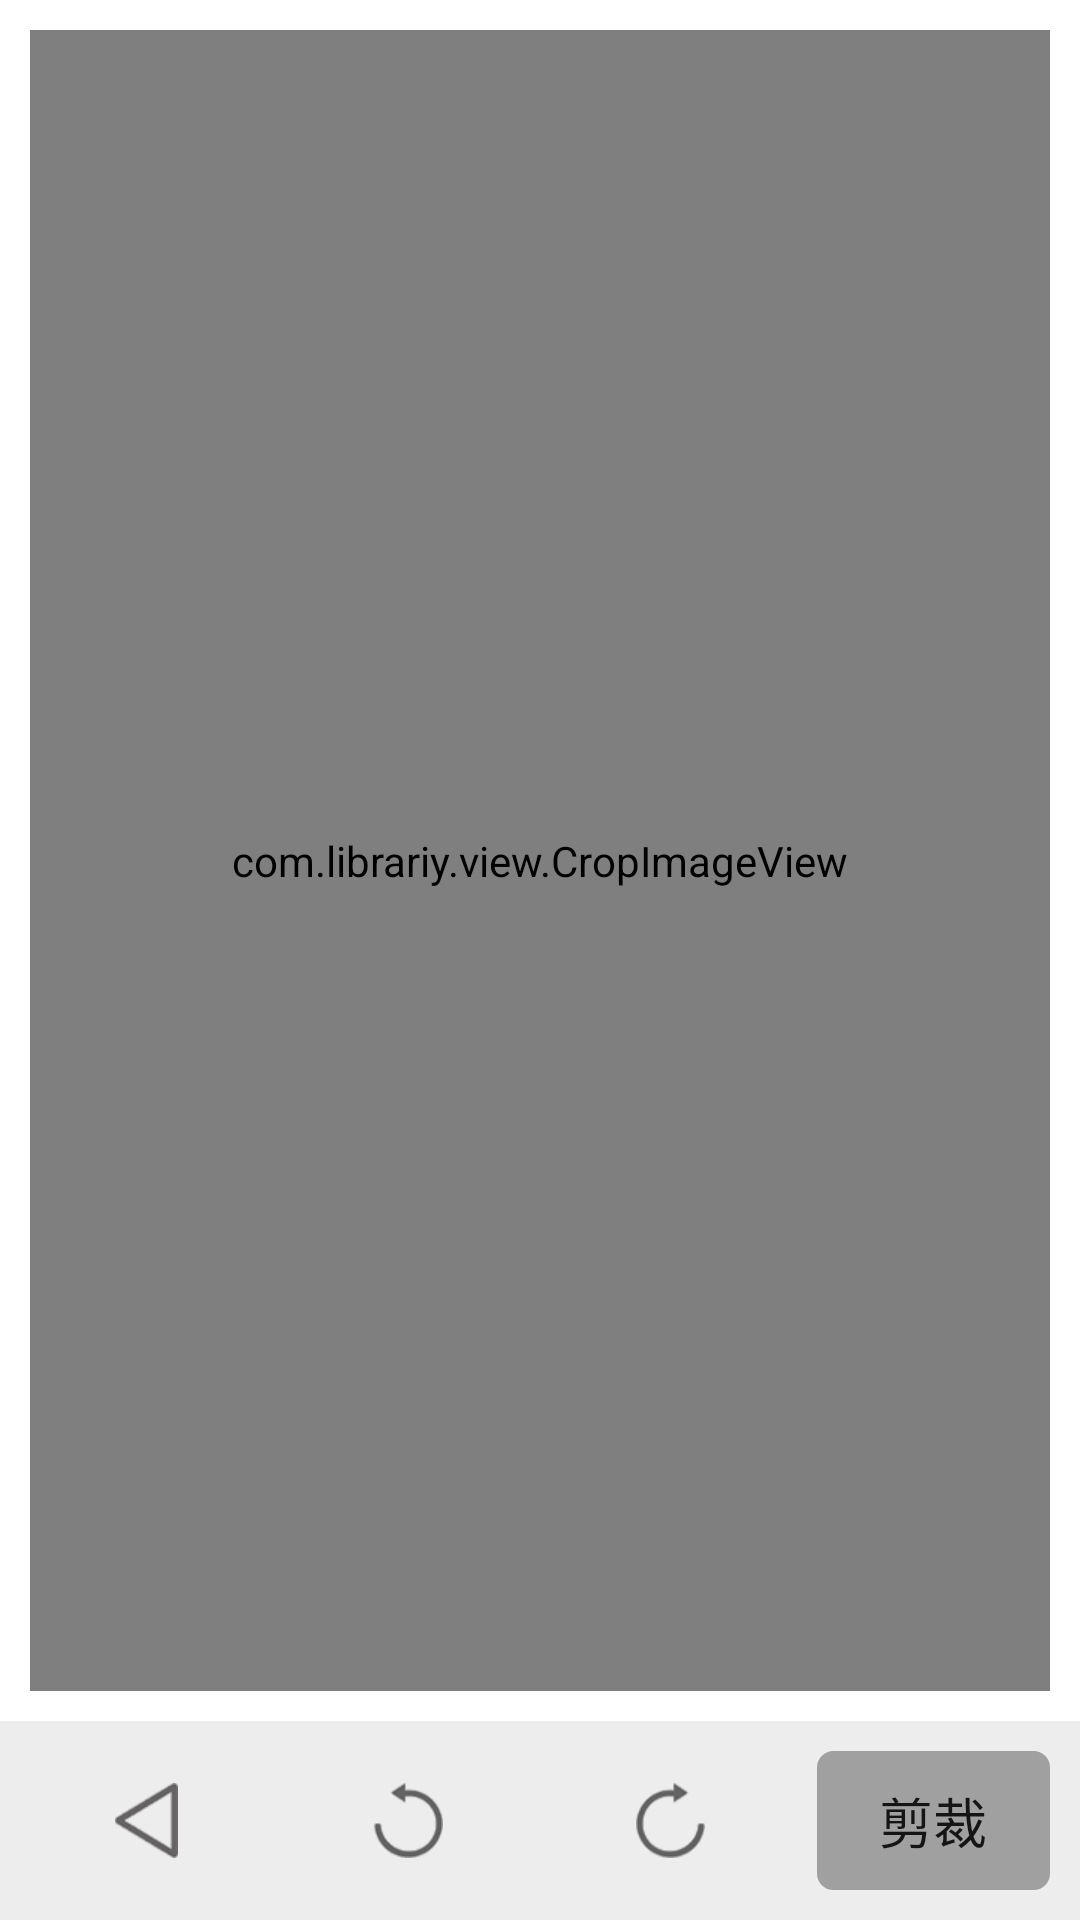

Screen size 1080*1920. Icon name, then its box in pixels as (x1, y1, x2, y2):
return: (115, 1783, 178, 1858)
rotation anticlockwise: (374, 1783, 443, 1858)
rotation clockwise: (636, 1783, 705, 1858)
